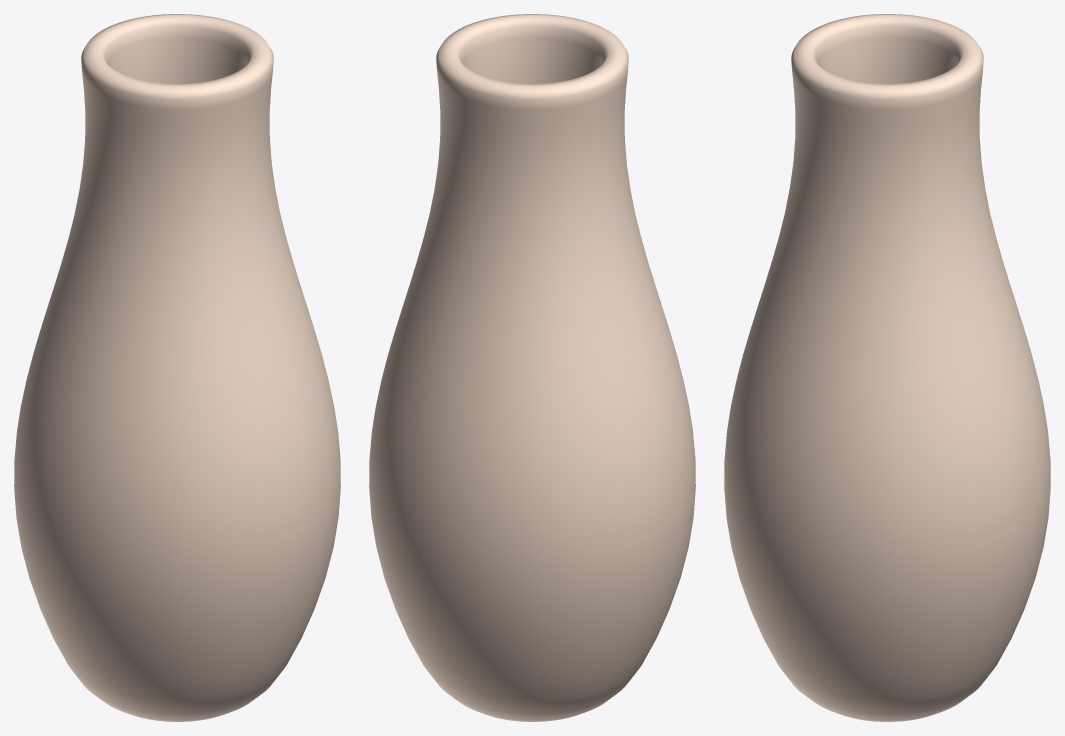
File: vase.fbx
3 renders of one model, left to right at view 1: azimuth 30°, elevation 25°; view 2: azimuth 150°, elevation 25°; view 3: azimuth 270°, elevation 25°, orthographic.
Visible parts, largest first — view 1: BezierCircle; view 2: BezierCircle; view 3: BezierCircle.
Boxes of the visible parts, bbox=[...] form: BezierCircle: bbox=[14, 14, 340, 721]; BezierCircle: bbox=[369, 14, 695, 721]; BezierCircle: bbox=[724, 14, 1050, 721].
Bounding box in the file's own units: 129 × 281 × 129.
